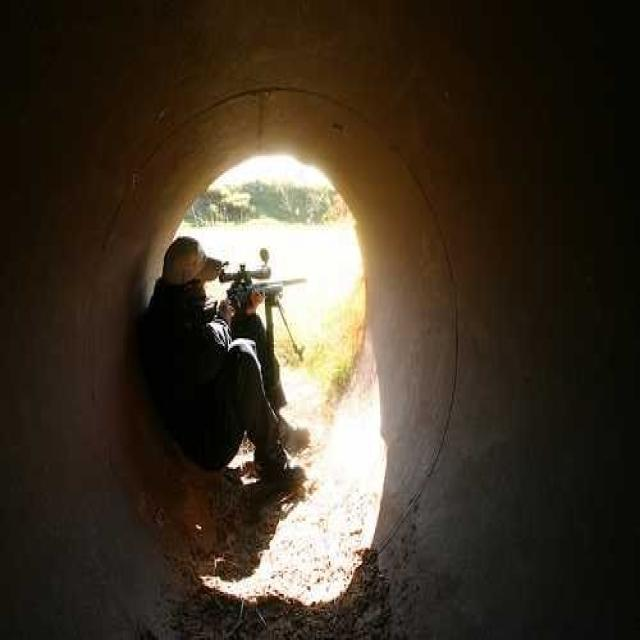heavyweapon: (192, 255, 333, 376)
